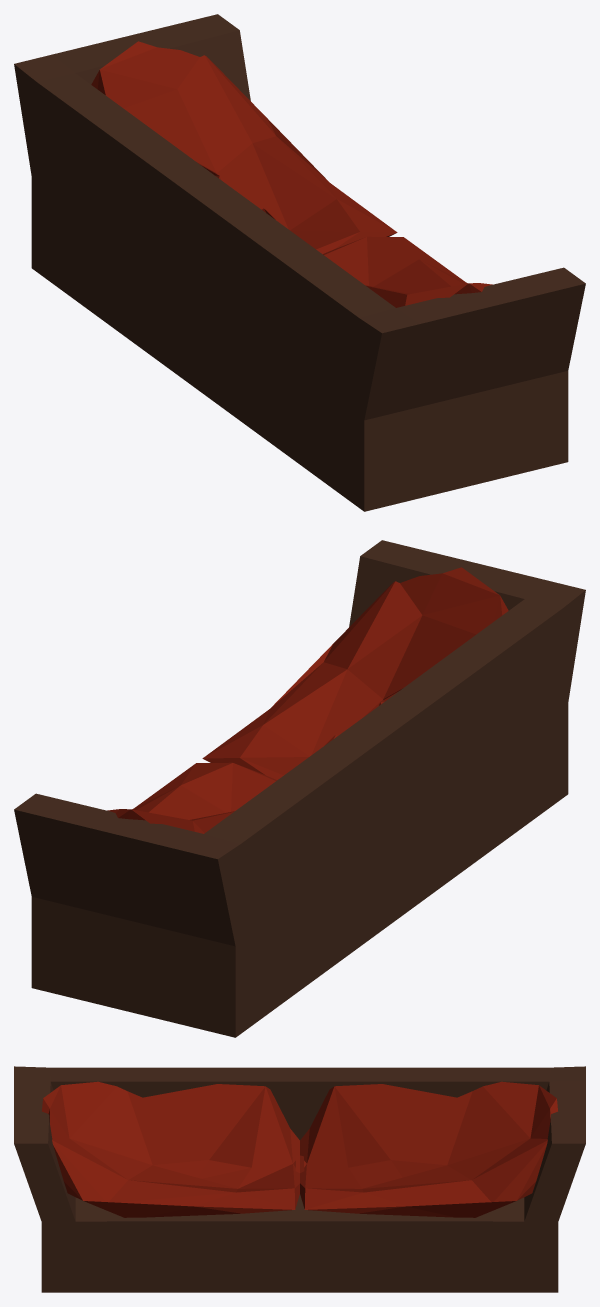
The model's file is couch.glb.
The picture shows the model from 3 angles, top to bottom: view 1: azimuth 30°, elevation 25°; view 2: azimuth 150°, elevation 25°; view 3: azimuth 270°, elevation 25°; orthographic projection. The views are drawn at different scales.
Visible parts, largest first — view 1: Cylinder; view 2: Cylinder; view 3: Cylinder.
Boxes of the visible parts, left/top/right/bottom form: Cylinder: left=14, top=14, right=585, bottom=511; Cylinder: left=14, top=540, right=585, bottom=1037; Cylinder: left=14, top=1066, right=585, bottom=1292.
Size of the model in its own units: 0.9782 by 0.9085 by 3.
Materials: 1 (1 with a texture image).
